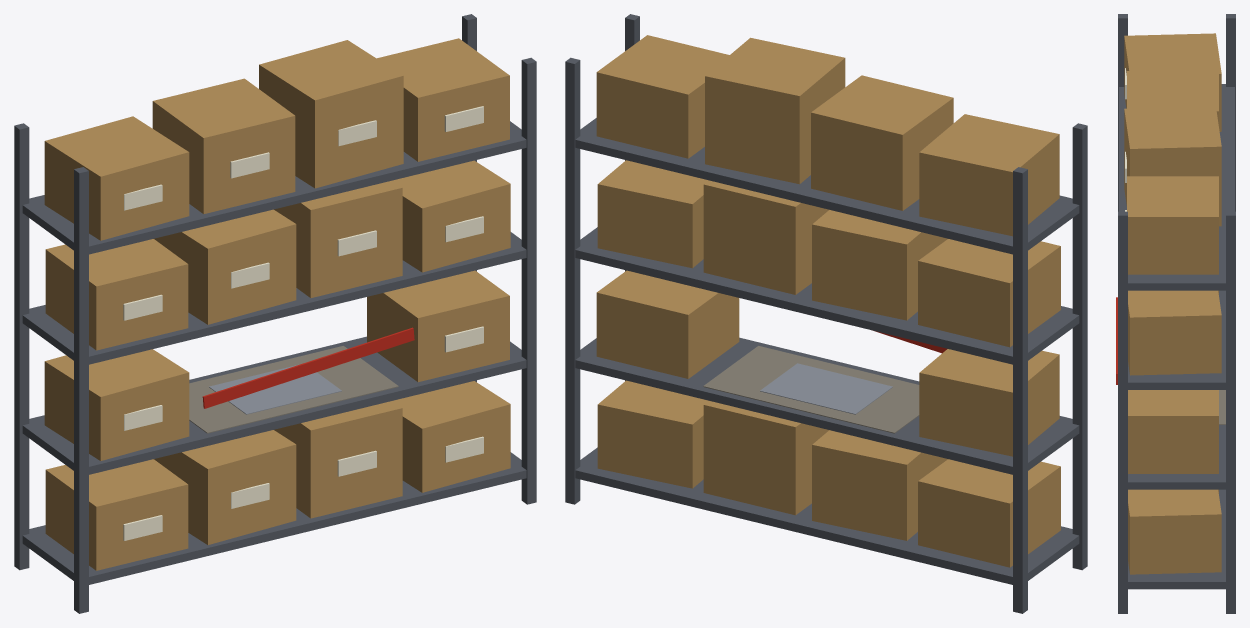
File: evidence_shelf_gap.glb
The picture shows the model from 3 angles, left to right: view 1: azimuth 30°, elevation 25°; view 2: azimuth 150°, elevation 25°; view 3: azimuth 270°, elevation 25°; orthographic projection. The views are drawn at different scales.
Visible parts, largest first — view 1: boxes_evidence_box, shelves_evidence_steel, frame_evidence_steel, labels_evidence_label, dust_evidence_dust, tape_evidence_red, clean_evidence_clean; view 2: boxes_evidence_box, shelves_evidence_steel, frame_evidence_steel, dust_evidence_dust, clean_evidence_clean; view 3: boxes_evidence_box, shelves_evidence_steel, frame_evidence_steel, dust_evidence_dust.
Part boxes in pixels (left/top/right/bottom): boxes_evidence_box: left=44, top=38, right=510, bottom=570; shelves_evidence_steel: left=22, top=121, right=526, bottom=584; frame_evidence_steel: left=14, top=14, right=536, bottom=613; labels_evidence_label: left=123, top=106, right=483, bottom=540; dust_evidence_dust: left=189, top=346, right=398, bottom=433; tape_evidence_red: left=202, top=327, right=414, bottom=408; clean_evidence_clean: left=209, top=364, right=341, bottom=414; boxes_evidence_box: left=596, top=35, right=1060, bottom=567; shelves_evidence_steel: left=575, top=118, right=1079, bottom=584; frame_evidence_steel: left=565, top=14, right=1087, bottom=613; dust_evidence_dust: left=703, top=346, right=919, bottom=433; clean_evidence_clean: left=760, top=363, right=892, bottom=414; boxes_evidence_box: left=1124, top=33, right=1221, bottom=574; shelves_evidence_steel: left=1119, top=84, right=1234, bottom=589; frame_evidence_steel: left=1118, top=14, right=1235, bottom=613; dust_evidence_dust: left=1219, top=390, right=1225, bottom=424.
Bounding box in the file's own units: 2.39 × 2.26 × 0.6.
